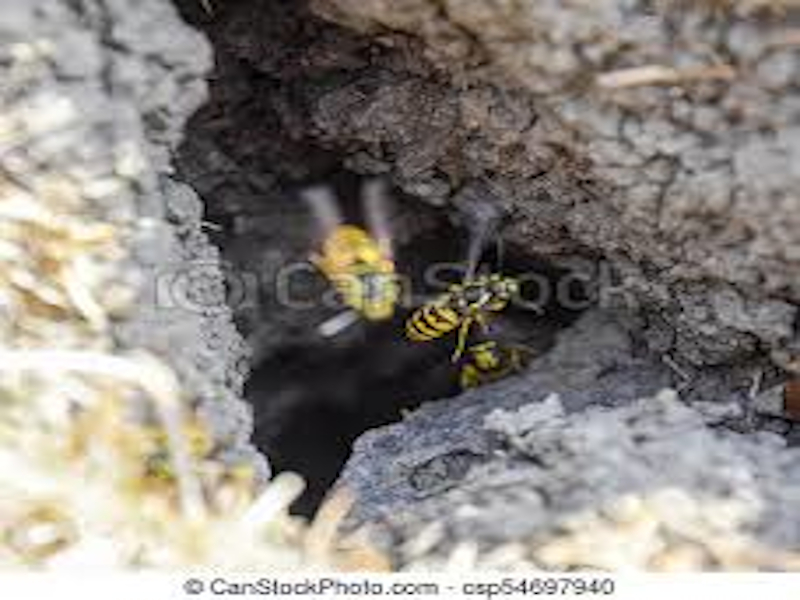chax: (398, 250, 537, 342), (441, 339, 543, 405)
